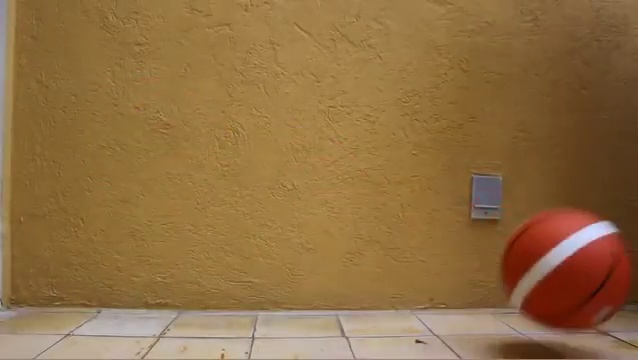ball: (500, 205, 632, 333)
